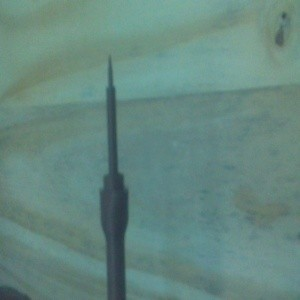solder: (98, 55, 129, 300)
